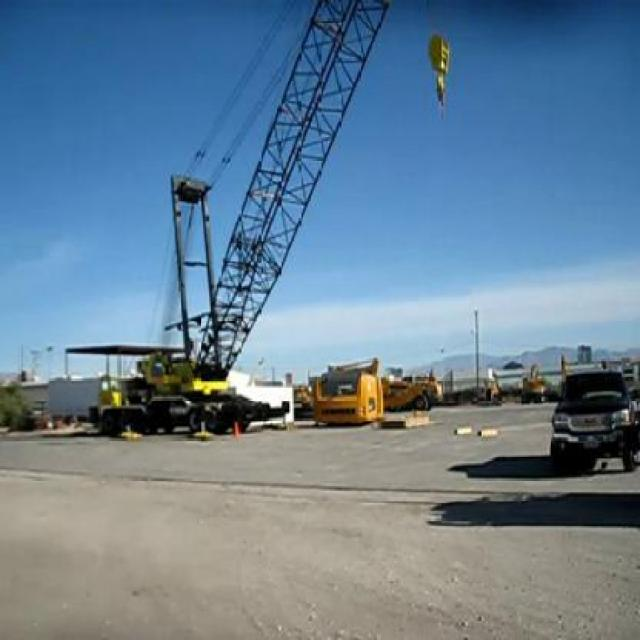Mobile Crane: (91, 0, 400, 429)
